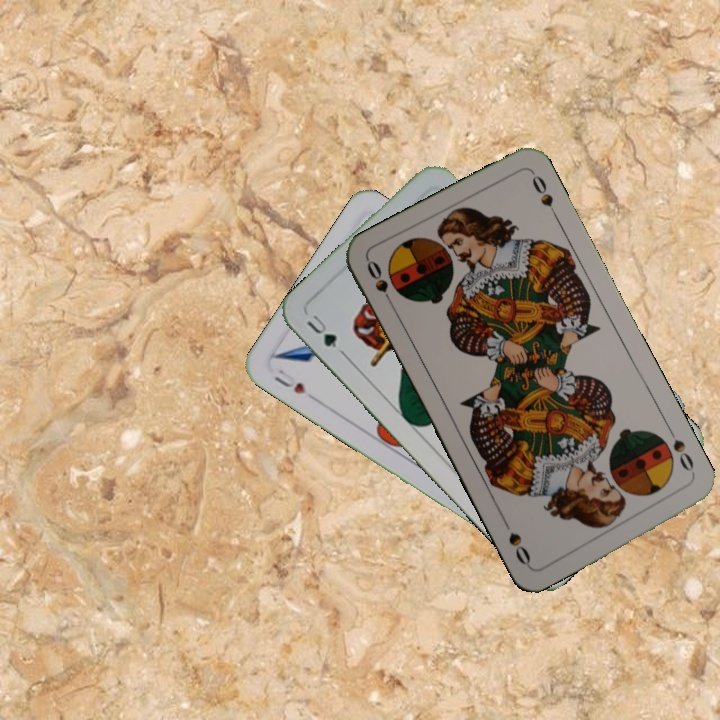GU: (302, 310, 340, 351)
HU: (270, 365, 309, 397)
SO: (362, 256, 398, 311), (664, 425, 698, 481)
